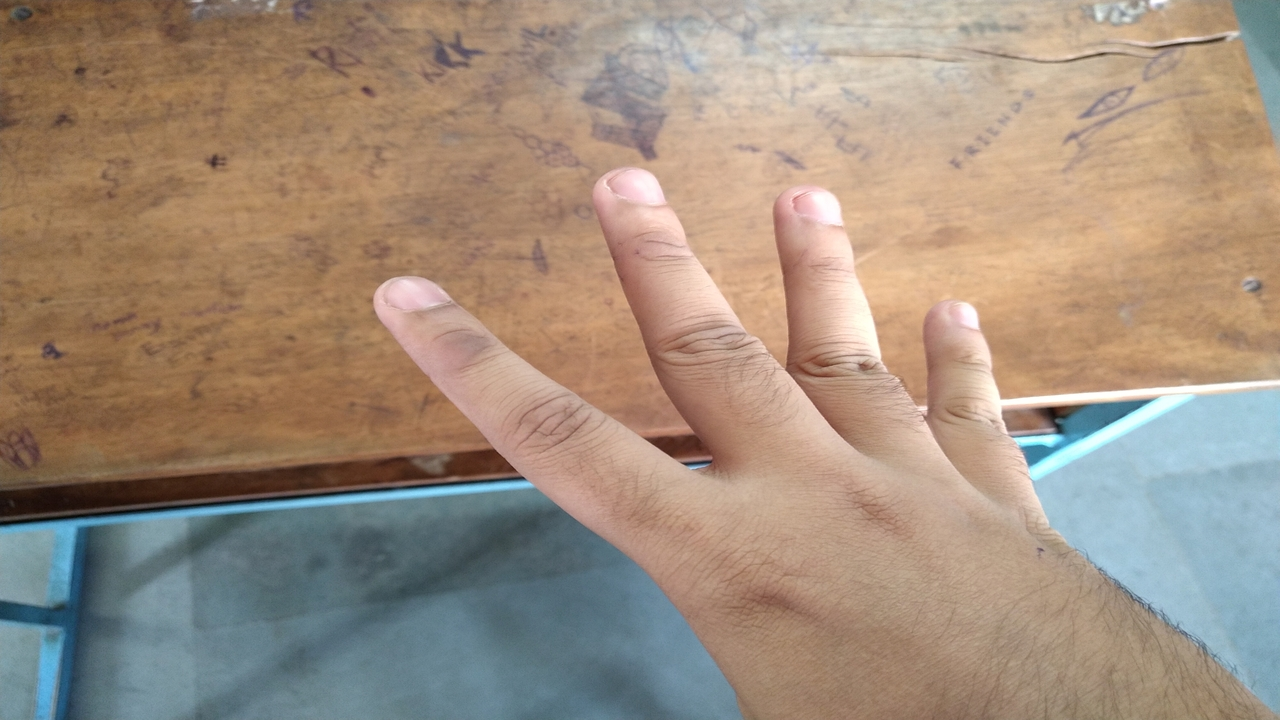fingertip: (584, 158, 672, 224), (768, 174, 854, 234), (352, 272, 436, 332), (926, 288, 992, 354)
